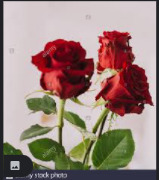RedRose: (28, 38, 94, 104)
